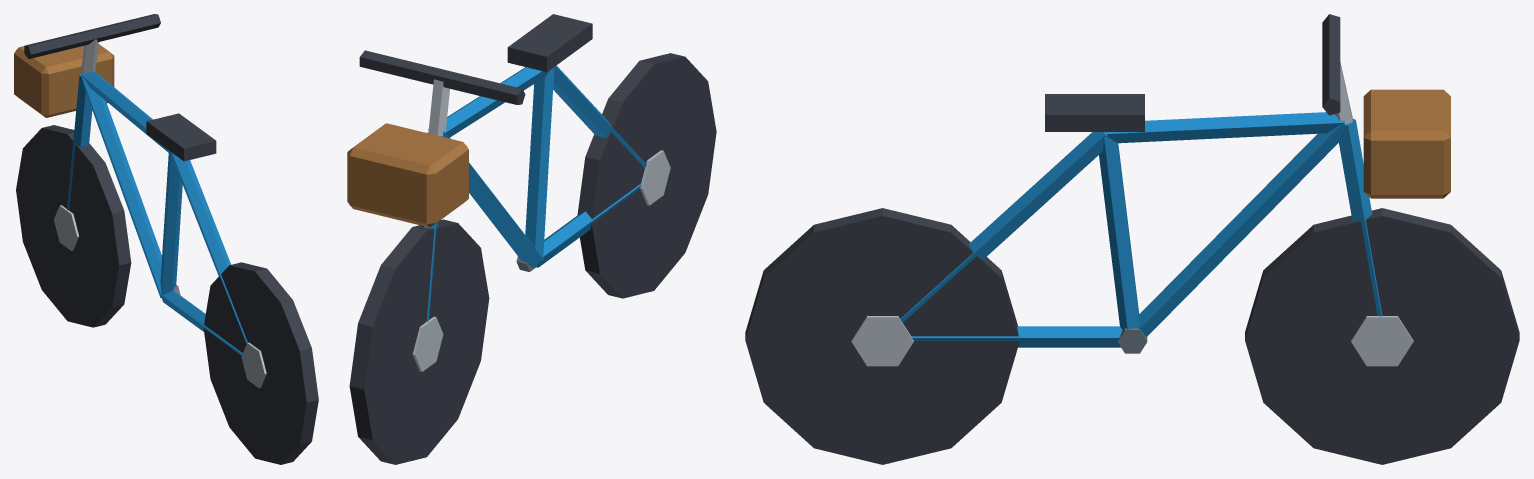
Rendered from bicicleta.glb.
3 renders of one model, left to right at view 1: azimuth 30°, elevation 25°; view 2: azimuth 150°, elevation 25°; view 3: azimuth 270°, elevation 25°, orthographic. The views are drawn at different scales.
Parts seen in each view (by area): view 1: corpo; view 2: corpo; view 3: corpo.
Boxes of the visible parts, box(x1,y1,x2,y2) form: corpo: box(14, 14, 318, 464); corpo: box(347, 14, 716, 464); corpo: box(745, 14, 1519, 464).
Size of the model in its own units: 0.16 by 0.3576 by 0.62.
